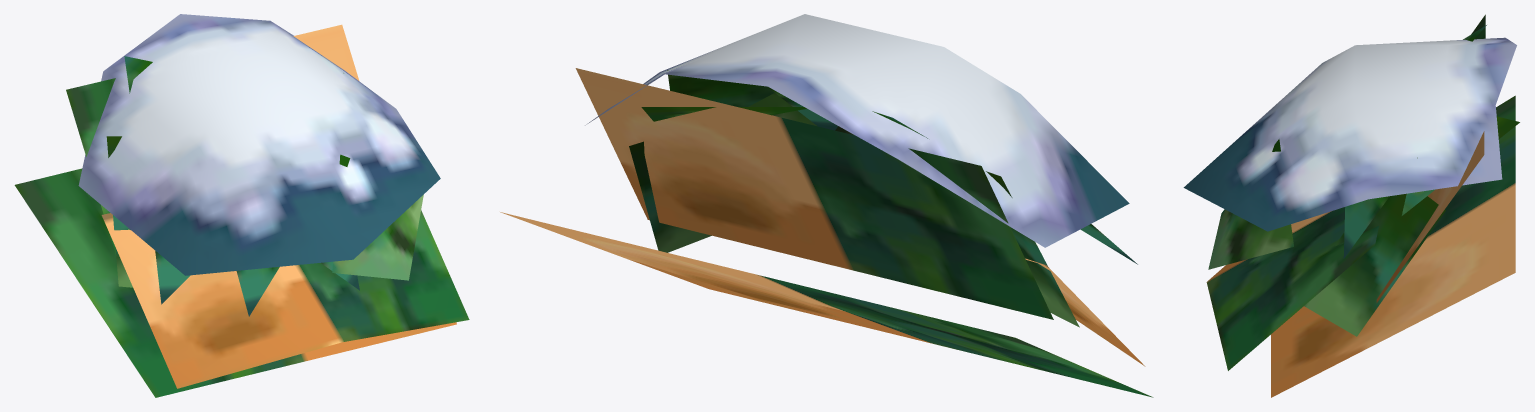
The model's file is fg_bushD_2_ye.dae.
3 renders of one model, left to right at view 1: azimuth 30°, elevation 25°; view 2: azimuth 150°, elevation 25°; view 3: azimuth 270°, elevation 25°, orthographic. The views are drawn at different scales.
Parts seen in each view (by area): view 1: fg_bushD_2_ye; view 2: fg_bushD_2_ye; view 3: fg_bushD_2_ye.
Boxes of the visible parts, <box> form: fg_bushD_2_ye: <box>14,14,469,397</box>; fg_bushD_2_ye: <box>500,14,1153,397</box>; fg_bushD_2_ye: <box>1183,14,1519,397</box>.
Size of the model in its own units: 47.83 by 34.27 by 38.41.
Materials: 1 (1 with a texture image).
